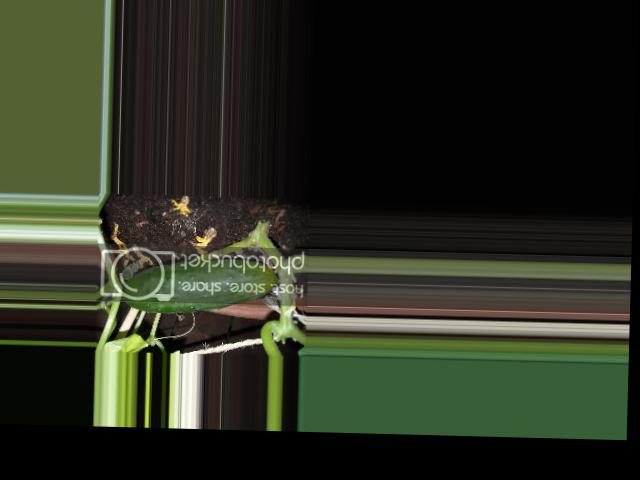cucumber: (122, 255, 276, 315)
